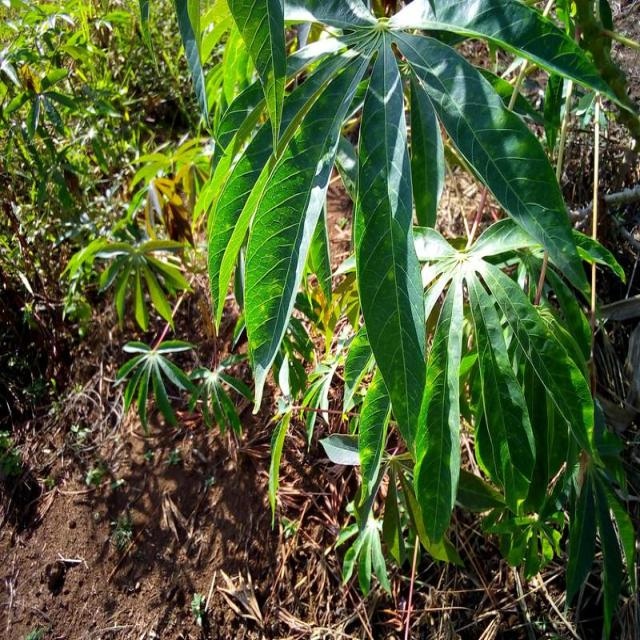cassava leaf: (174, 1, 630, 597), (352, 31, 427, 452)
